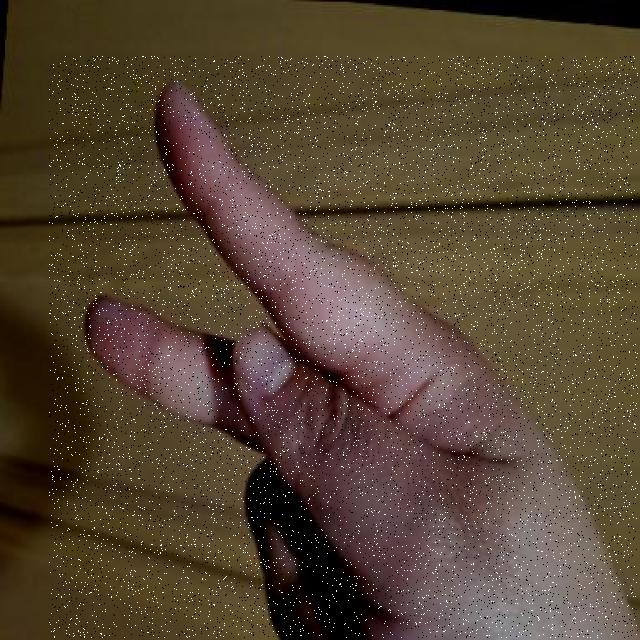P: (49, 56, 638, 638)
